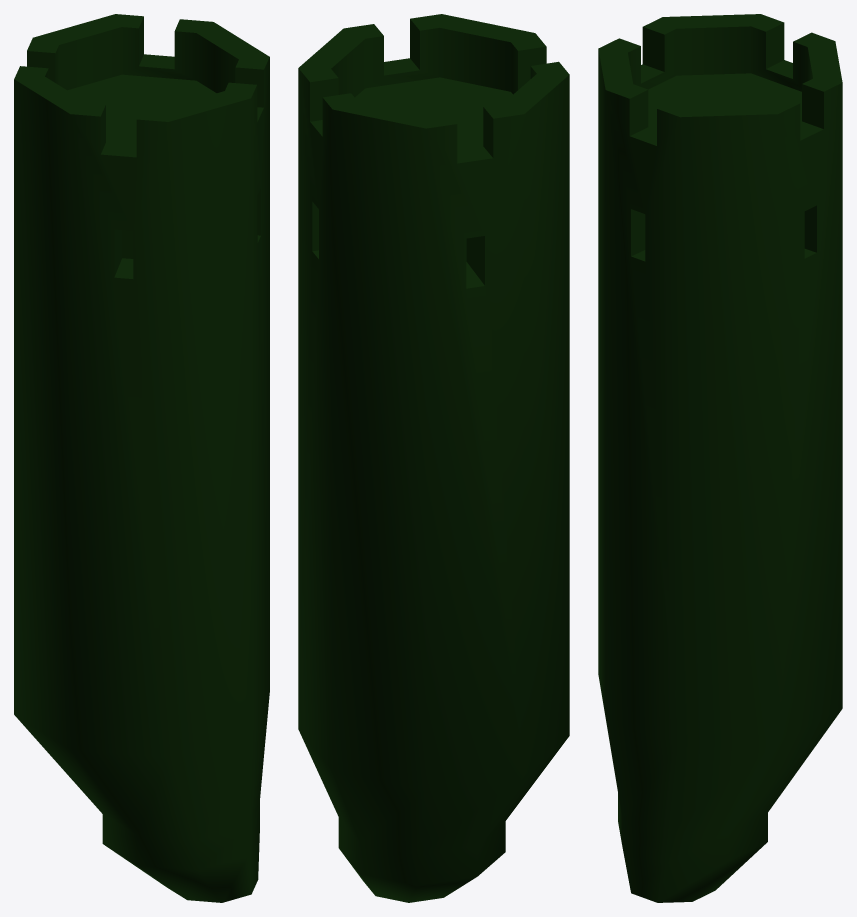
The model's file is round-tower-7.fbx.
The picture shows the model from 3 angles, left to right: view 1: azimuth 30°, elevation 25°; view 2: azimuth 150°, elevation 25°; view 3: azimuth 270°, elevation 25°; orthographic projection. The views are drawn at different scales.
Visible parts, largest first — view 1: round-tower-7; view 2: round-tower-7; view 3: round-tower-7.
Boxes of the visible parts, bbox=[...] form: round-tower-7: bbox=[14, 14, 269, 902]; round-tower-7: bbox=[298, 14, 569, 902]; round-tower-7: bbox=[598, 14, 842, 902].
Bounding box in the file's own units: 1.85 × 6.65 × 1.85.
